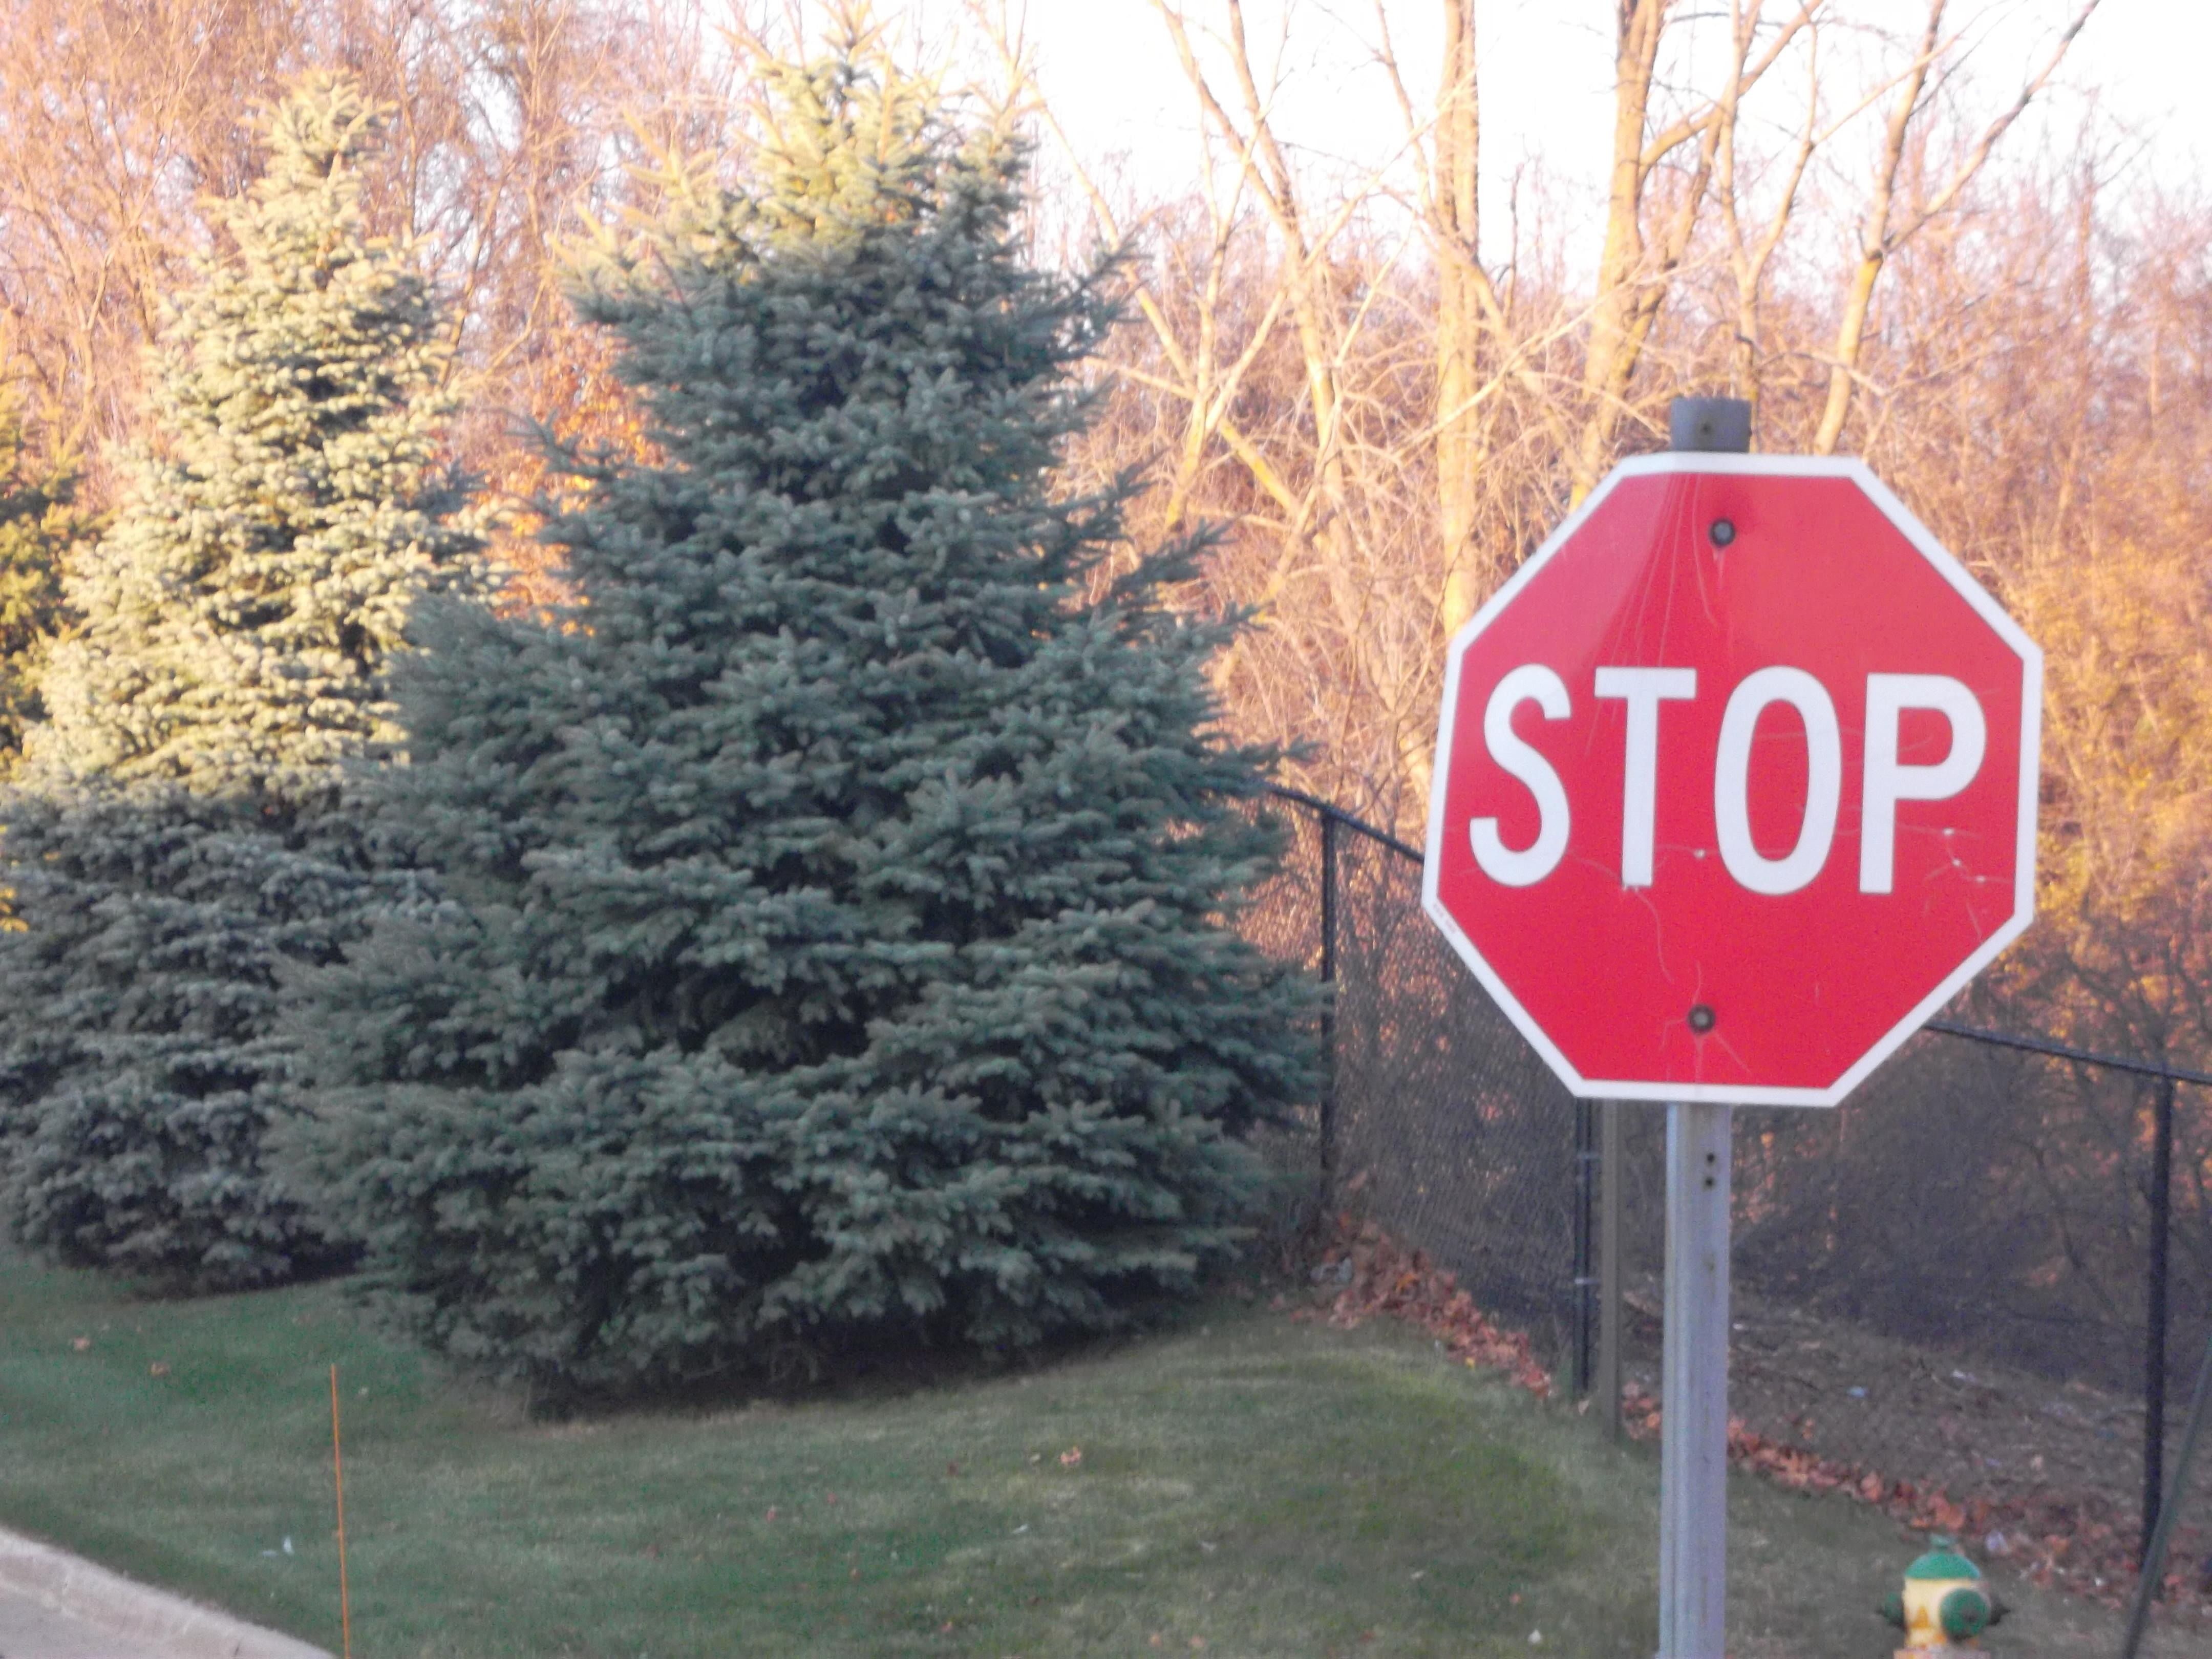stop: (1433, 450, 2045, 1117)
